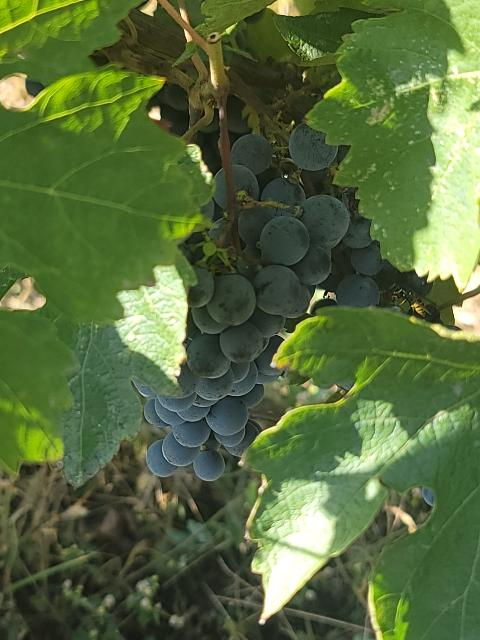grapes: (134, 135, 350, 480)
